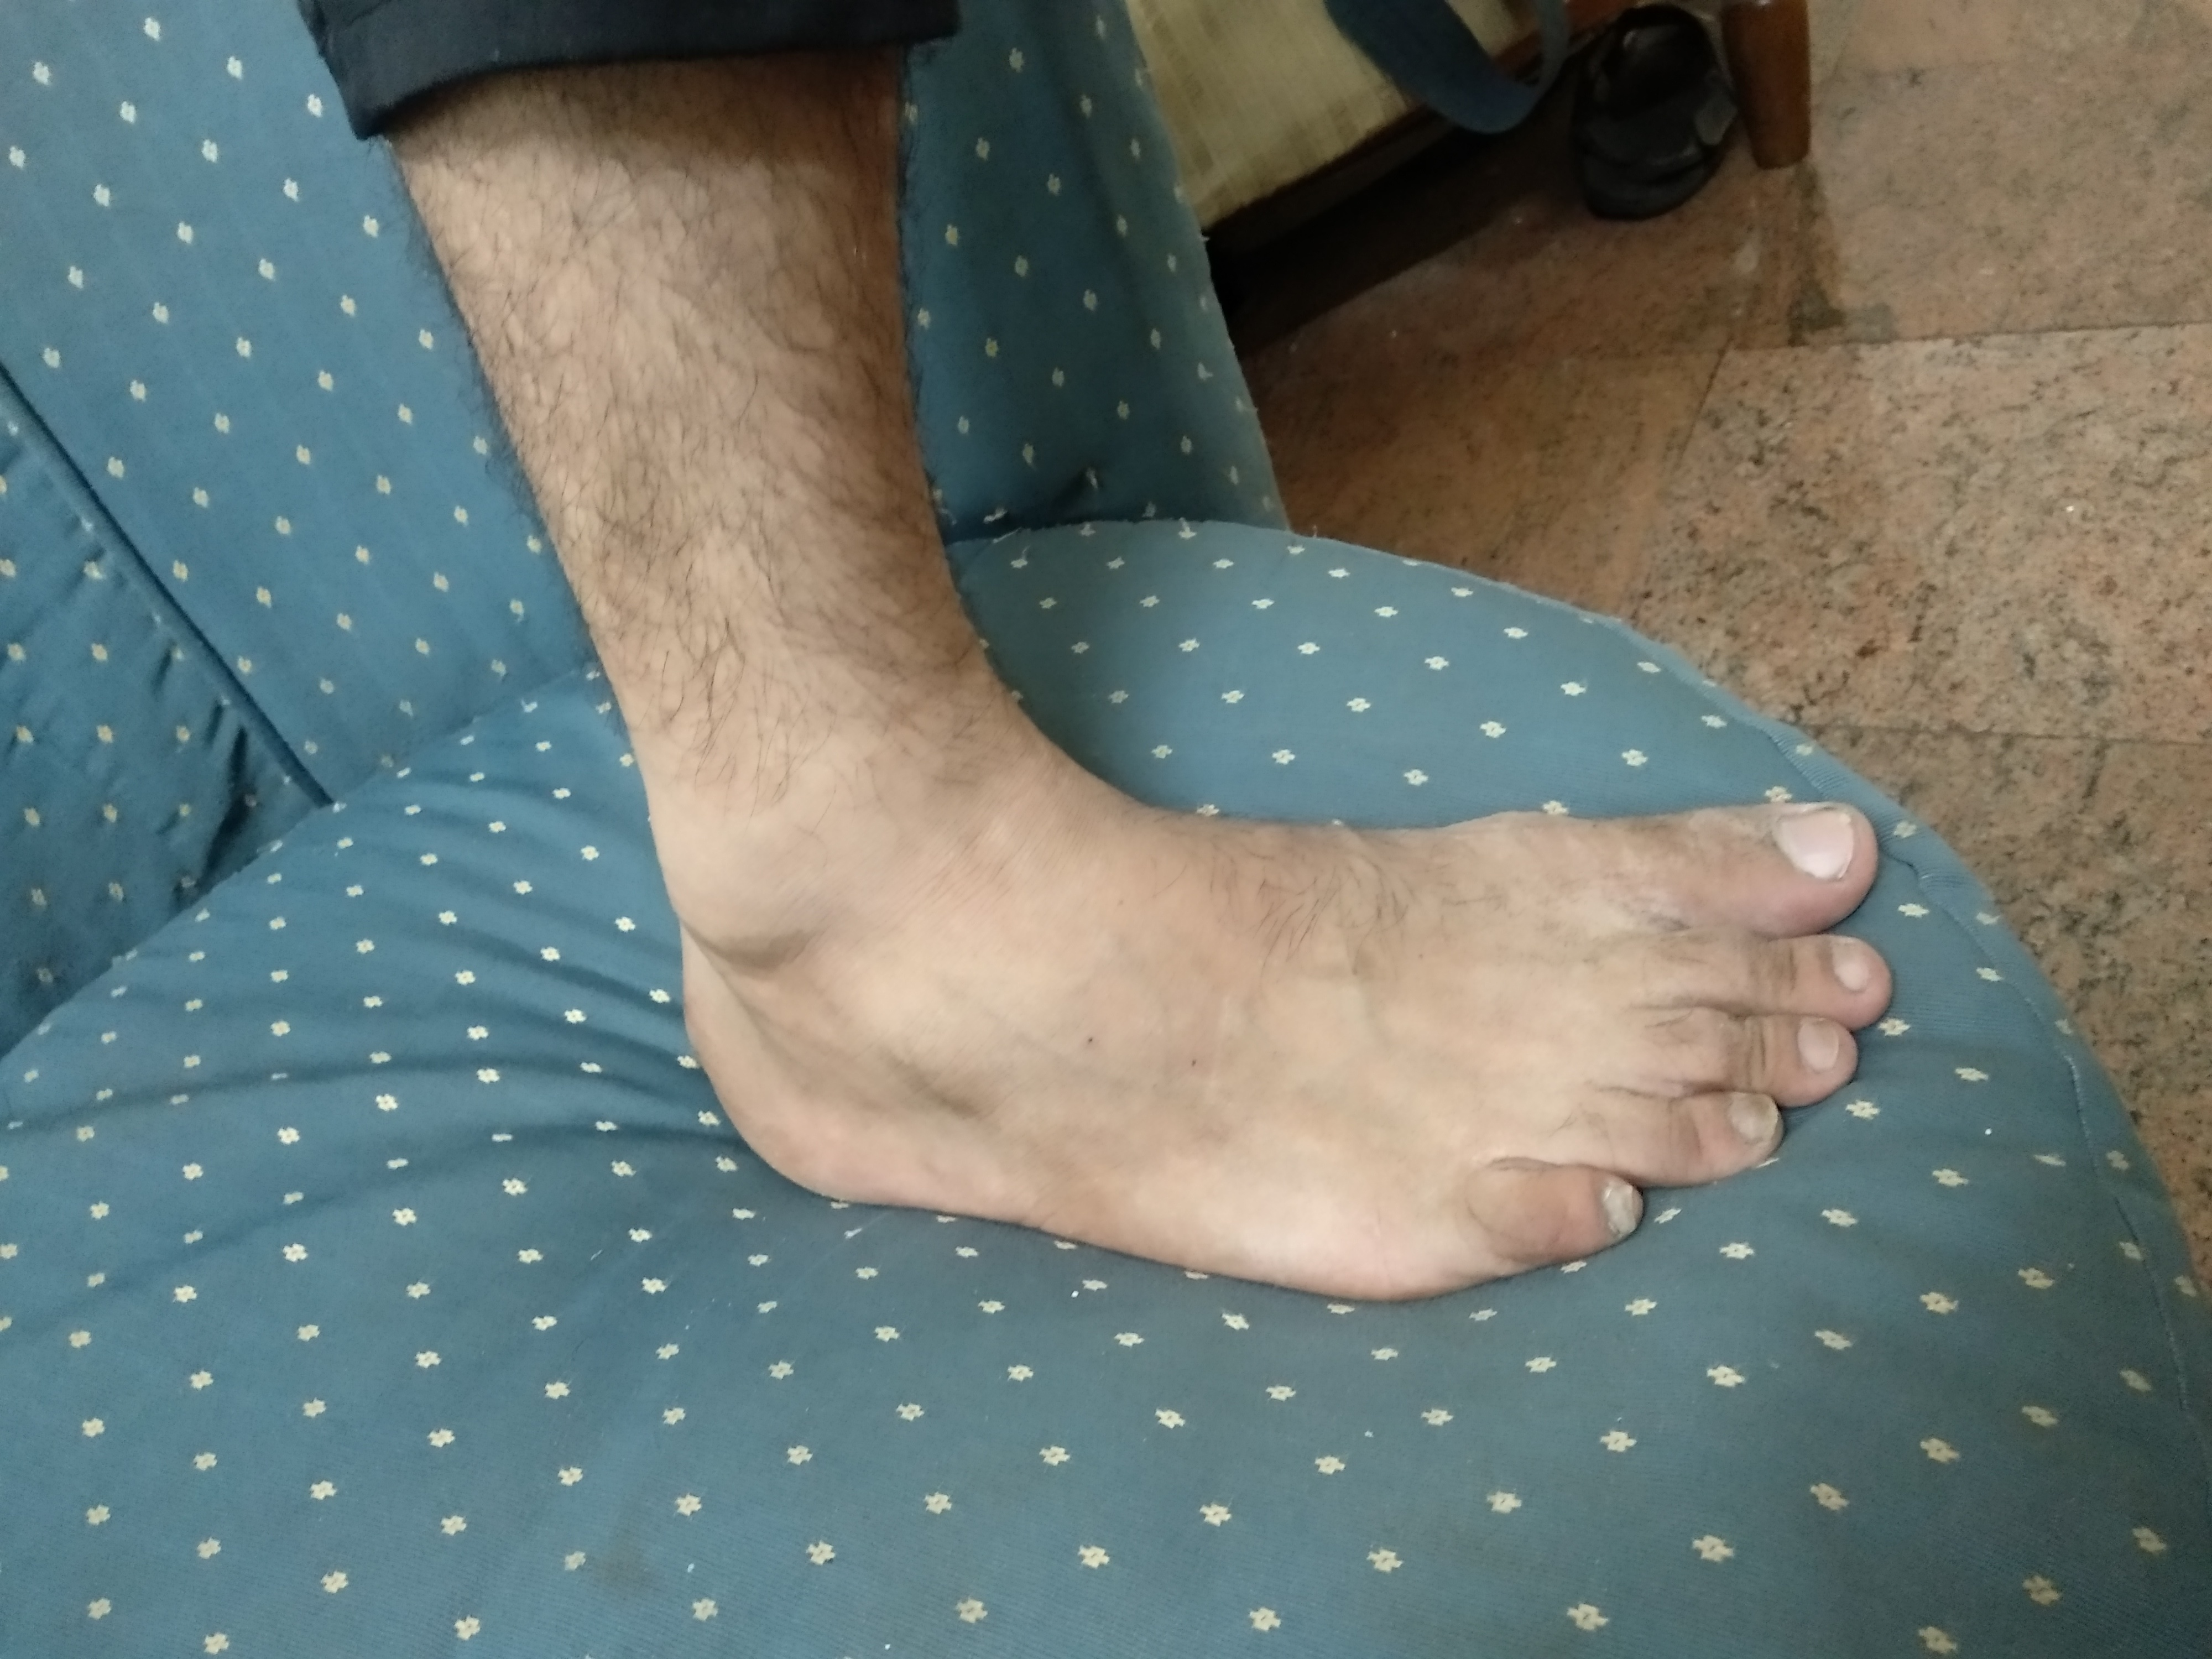feet: (535, 692, 1900, 1303)
